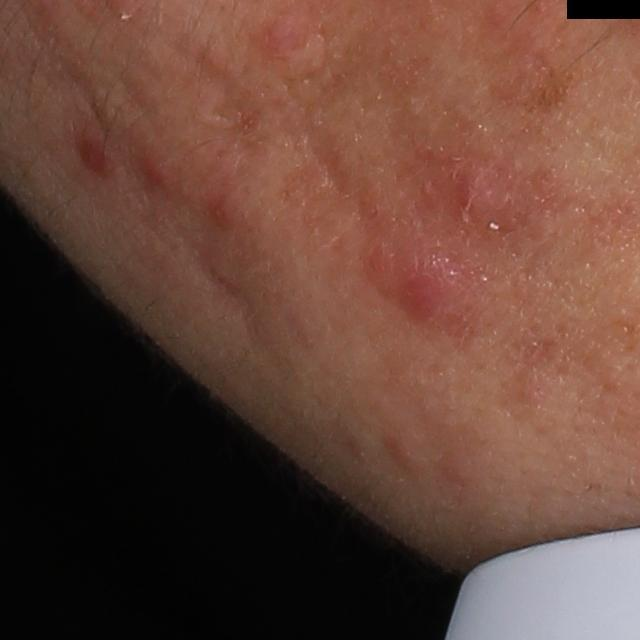atrophic_scar: (195, 243, 271, 357)
papule: (392, 238, 459, 328), (445, 166, 505, 243), (125, 144, 178, 199), (194, 196, 248, 237), (78, 129, 121, 174)
